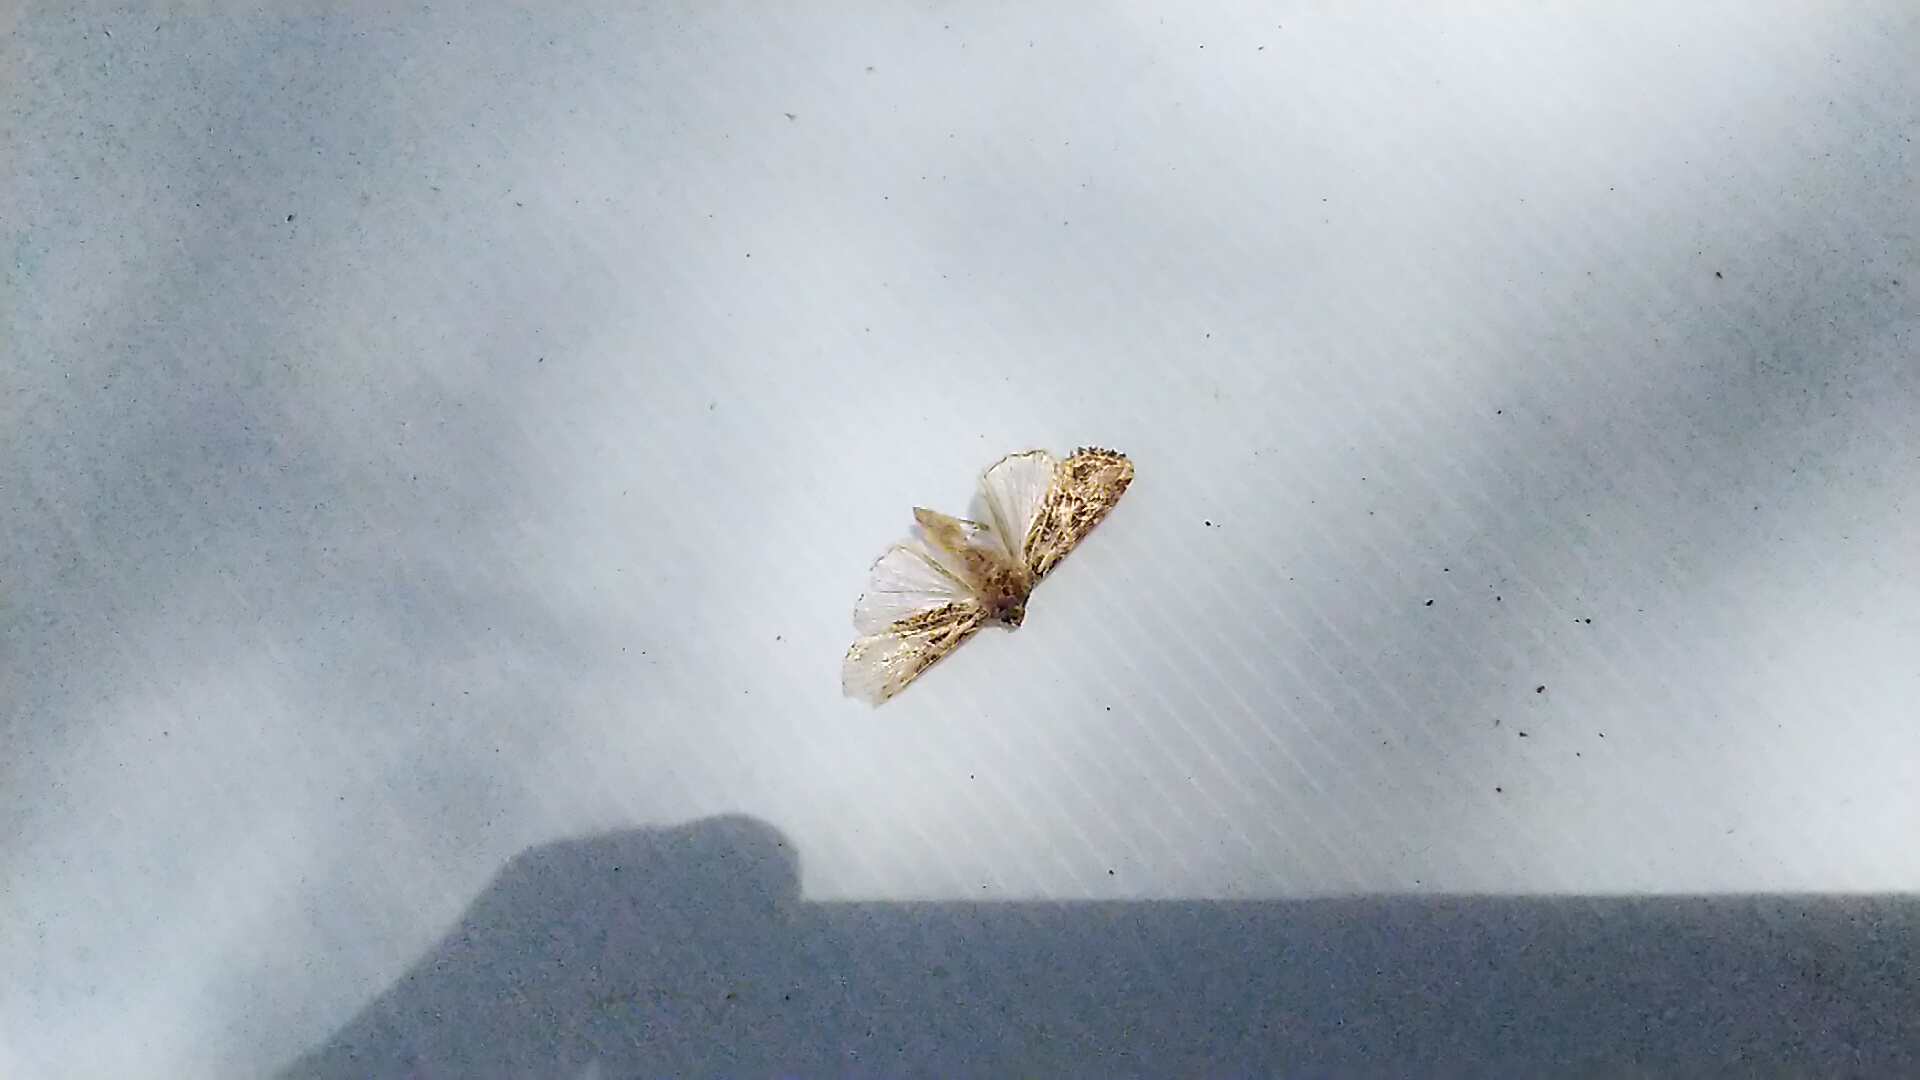INS-B: (843, 433, 1141, 717)
